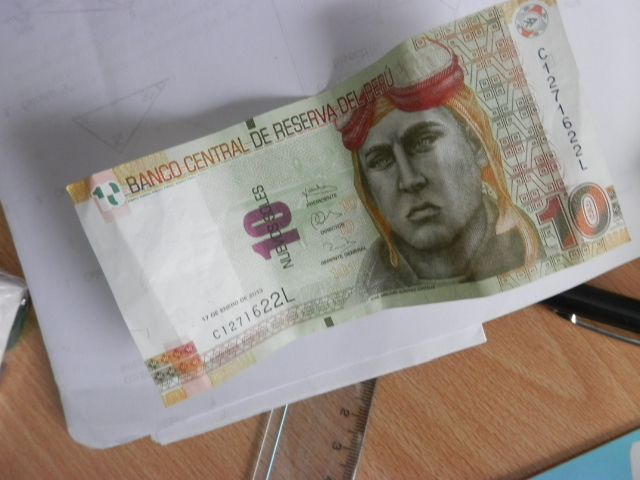B10: (78, 18, 629, 415)
